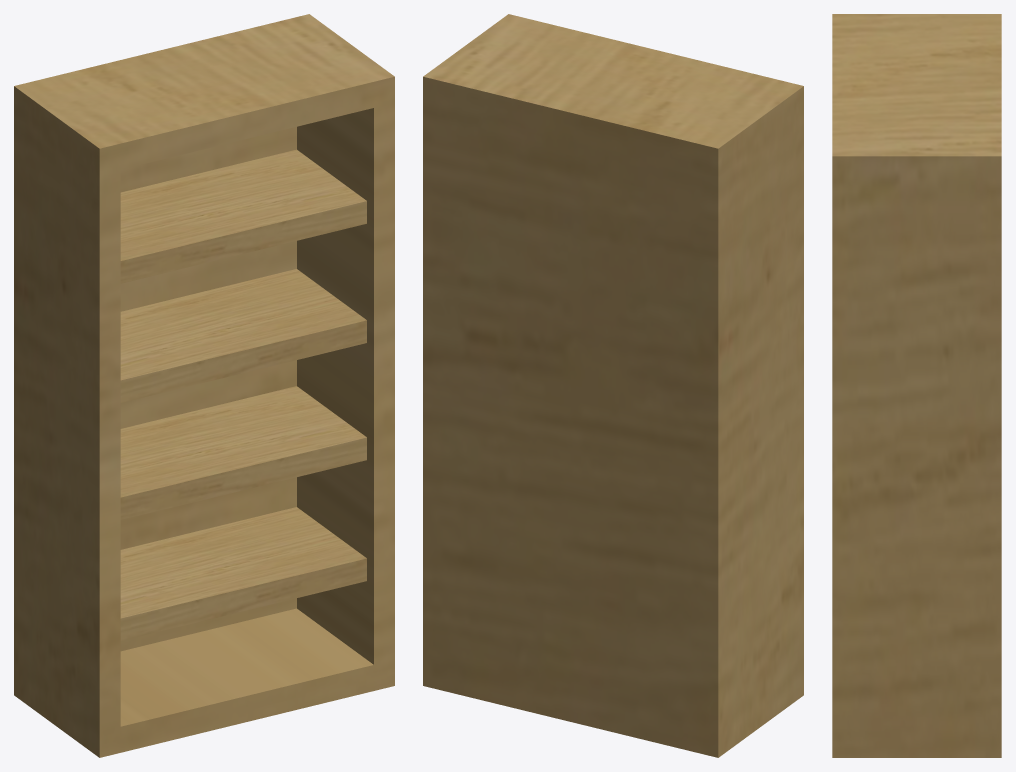
Rendered from Cabinet2.0.fbx.
The picture shows the model from 3 angles, left to right: view 1: azimuth 30°, elevation 25°; view 2: azimuth 150°, elevation 25°; view 3: azimuth 270°, elevation 25°; orthographic projection.
Parts seen in each view (by area): view 1: Cabinet; view 2: Cabinet; view 3: Cabinet.
Part boxes in pixels (bbox=[...]): Cabinet: bbox=[14, 14, 394, 757]; Cabinet: bbox=[423, 14, 803, 757]; Cabinet: bbox=[832, 14, 1001, 757].
Bounding box in the file's own units: 133 × 263 × 66.98.
